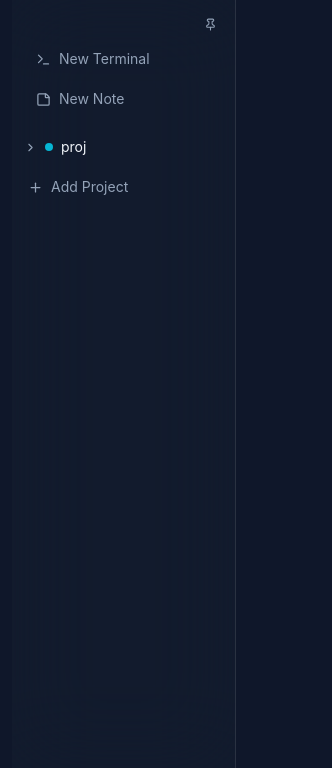
Test: Sidebar project provider launch › right-click on a session offers Open with…, current provider first
The width and height of the screenshot is (332, 768).
Step 1. Click the button "proj" → [110, 147], box [20,129,199,165]
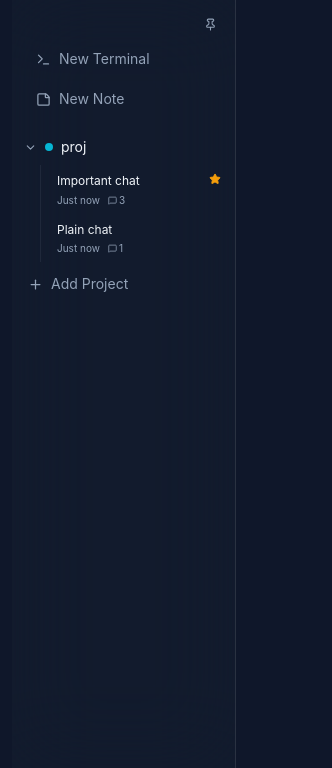
Expected: the text "Plain chat" is shown
// "Plain chat" has no recorded model → it ran on the default (Claude).
Step 2. Right-click the text "Plain chat" → [85, 229], box [57,222,112,236]
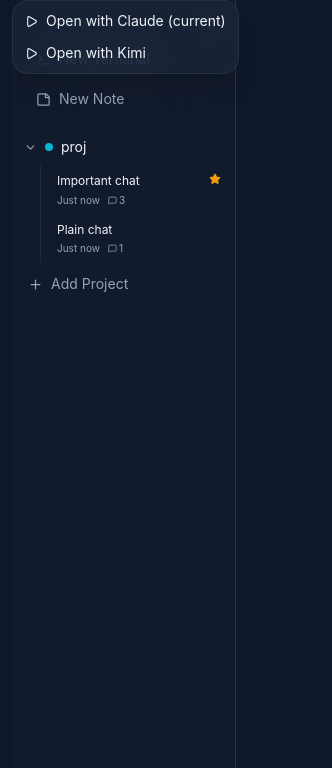
Expected: the button "Open with Claude (current)" is shown, [13,5,238,37]
// Picking the other provider resumes the same session on it.
Step 3. Click the button "Open with Kimi" → [125, 53], box [13,37,238,69]
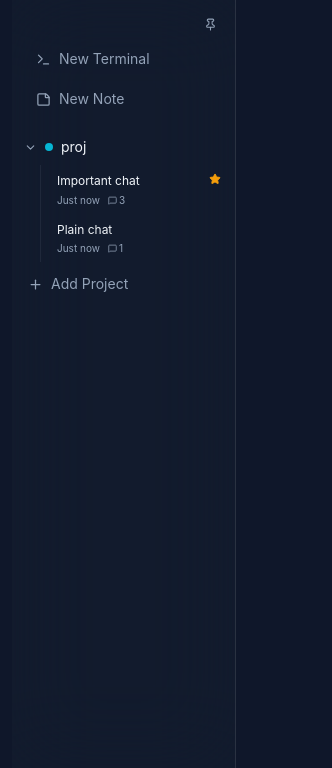
Expected: the button "Open with Kimi" is gone
